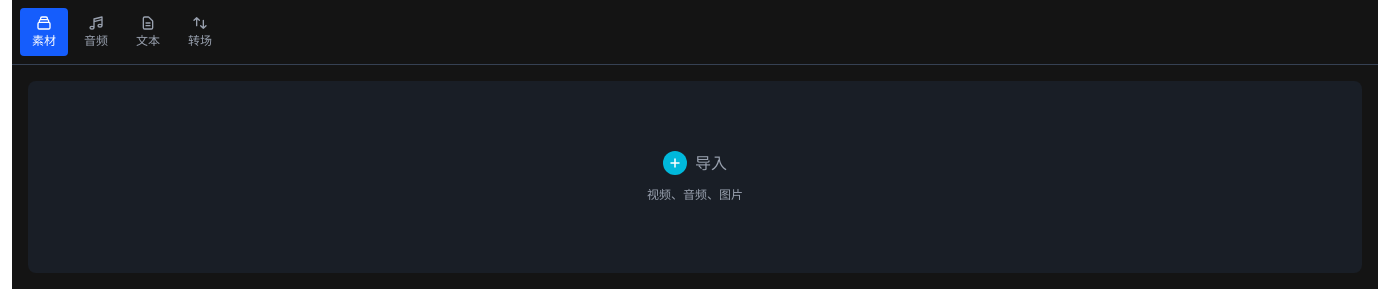
MediaLibrary › 6.1.9 测试右键菜单触发 › should close context menu when clicking elsewhere
Right-click the element showing "导入 视频、音频、图片" at (695, 177), box [28,81,1362,273]
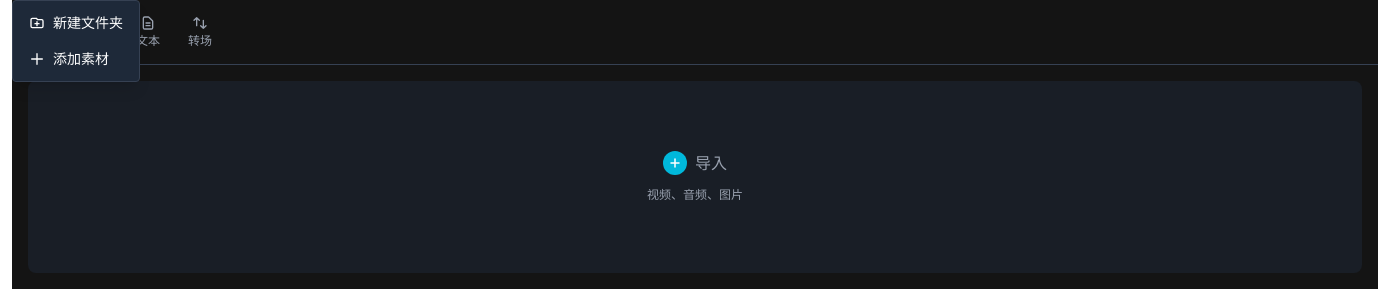
Check: the button "新建文件夹" is shown, box [13,5,139,41]
Click the element showing "素材 音频 文本 转场 导入 视频、音频、图片 新建文件夹 添加素材" at (695, 144), box [12,0,1377,289]
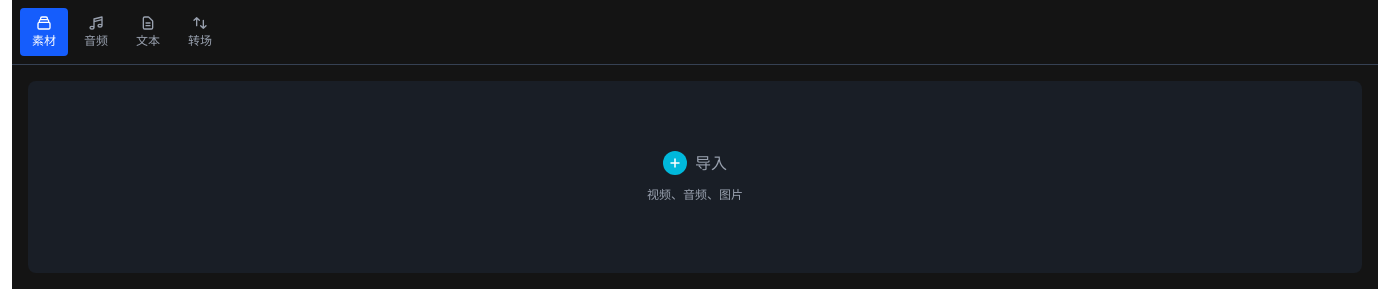
Check: the button "添加素材" is gone
